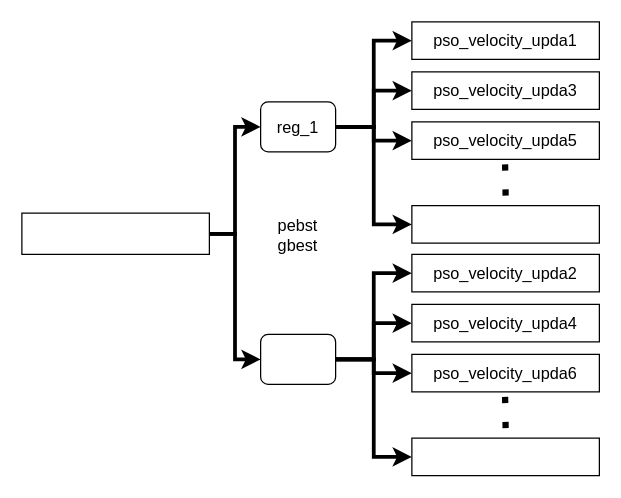
The diagram is 621 pixels wide and 498 high, and some of its shapes have lost their labels. The shapes that lost their labels are listed below. From the top down, each one's centre as x and y in pixels, then its label:
At (x=115, y=233): "pso_population_upda".
At (x=505, y=223): "pso_velocity_updaN-1".
At (x=297, y=358): "reg_2".
At (x=505, y=456): "pso_velocity_updaN".
